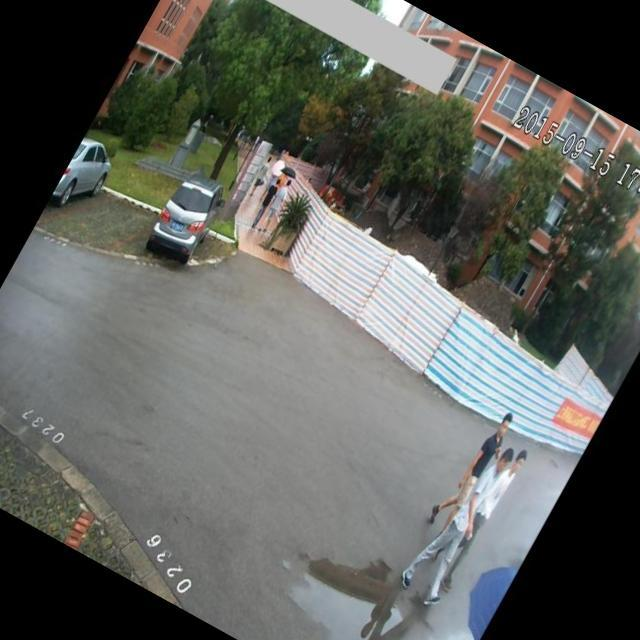person: (388, 426, 523, 624), (431, 438, 534, 597), (428, 400, 519, 531), (255, 176, 296, 240), (245, 174, 285, 232)
